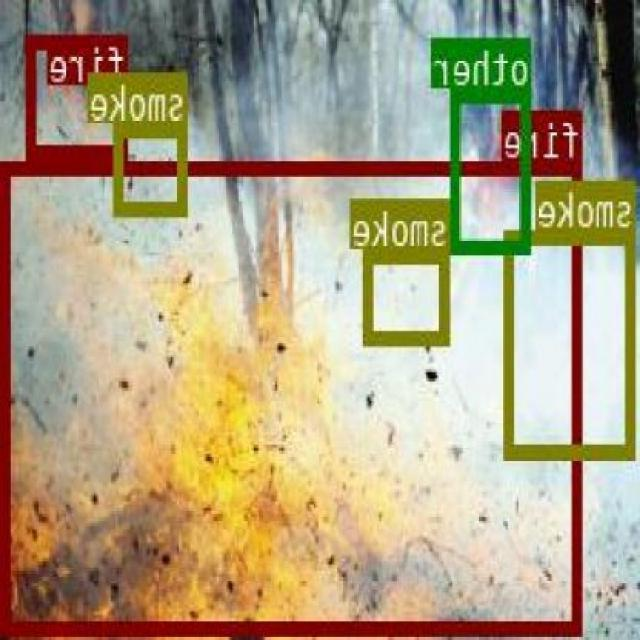Fire: (4, 160, 584, 631), (28, 33, 128, 156)
Smoke: (506, 228, 639, 456), (366, 248, 452, 344), (116, 120, 190, 212)
